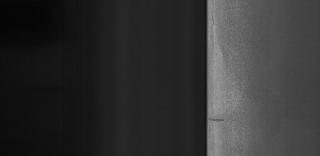oil spot: (207, 116, 226, 126)
